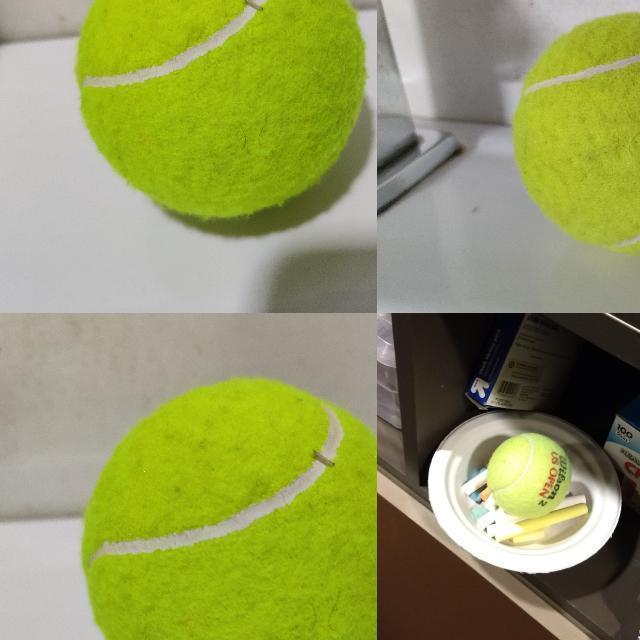tennis-ball: (78, 377, 376, 639), (72, 0, 372, 224), (509, 11, 639, 257), (486, 432, 572, 519)
